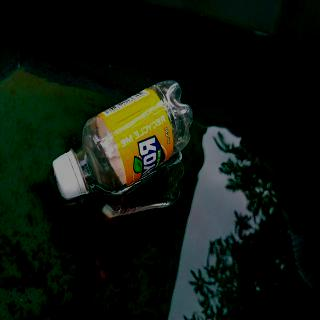bottle: (51, 76, 195, 200)
